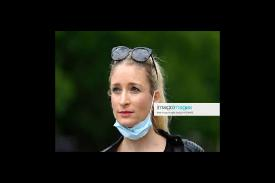mask_weared_incorrect: (111, 80, 152, 133)
